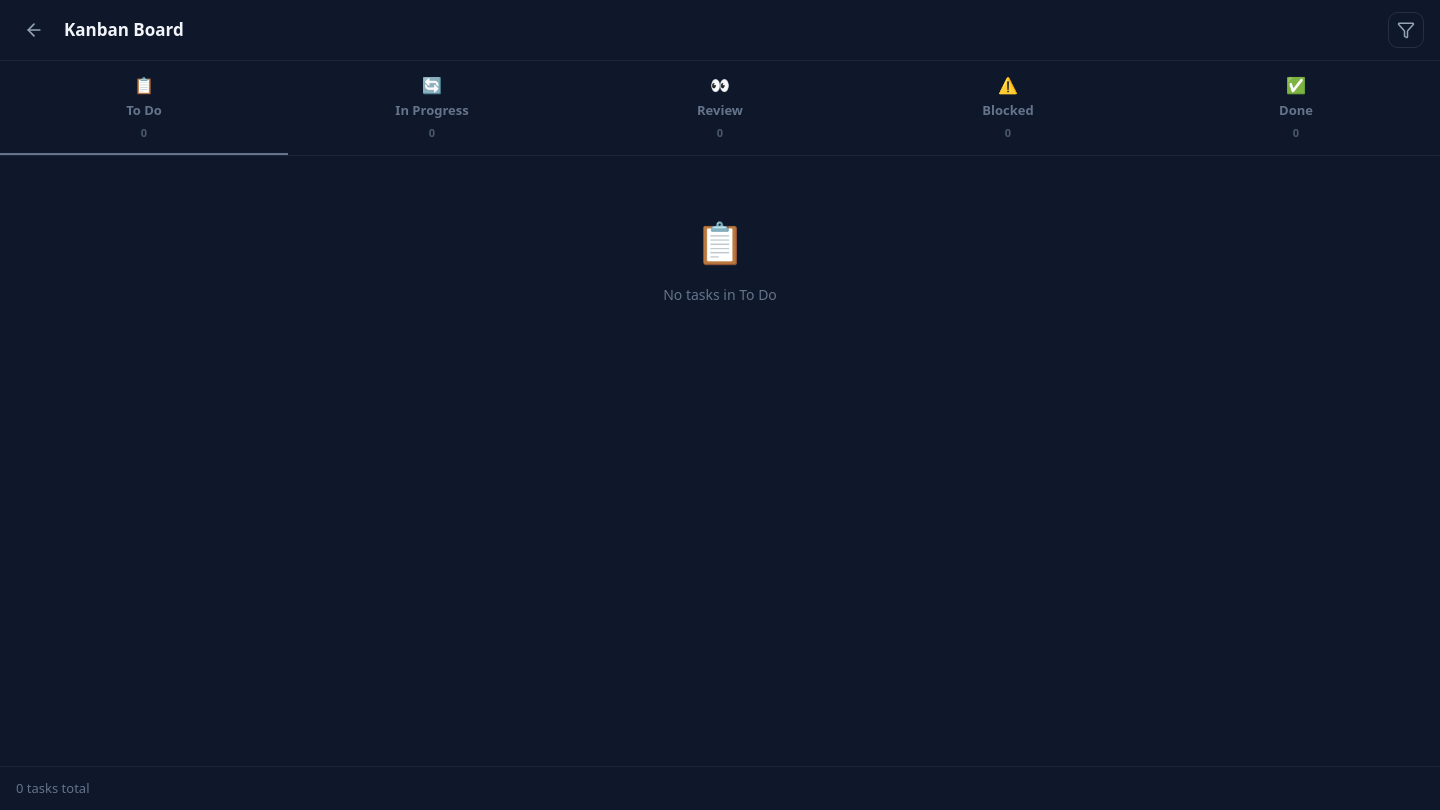
it: MobileKanbanPanel › filter sheet › shows All Projects option in filter
Click the button with class "lucide-funnel": click(1406, 30) top-left (1388, 12), bottom-right (1424, 48)
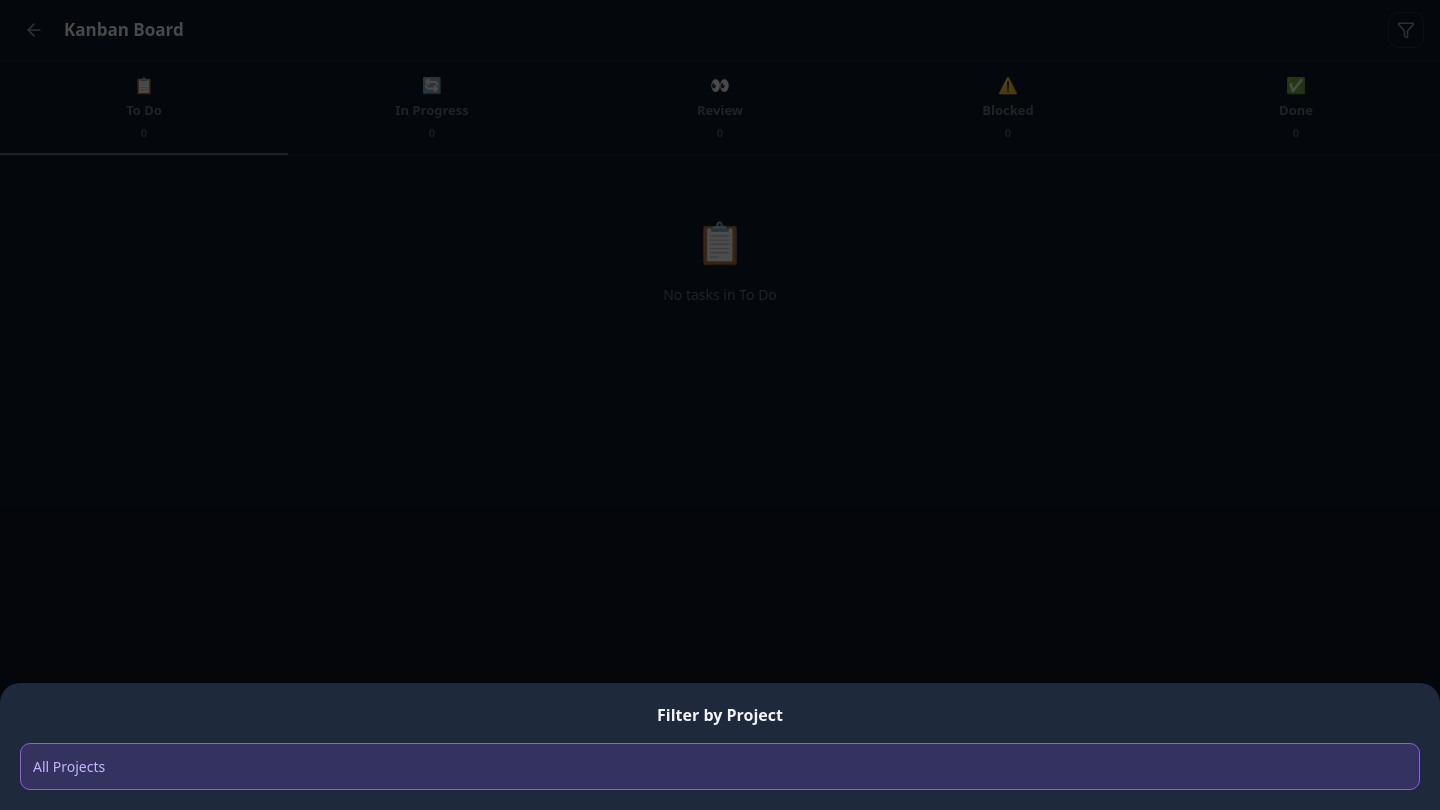
Expected: the button "All Projects" is shown, top-left (20, 743), bottom-right (1420, 790)
